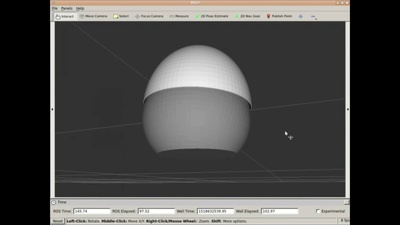mira_robot: (143, 44, 251, 156)
